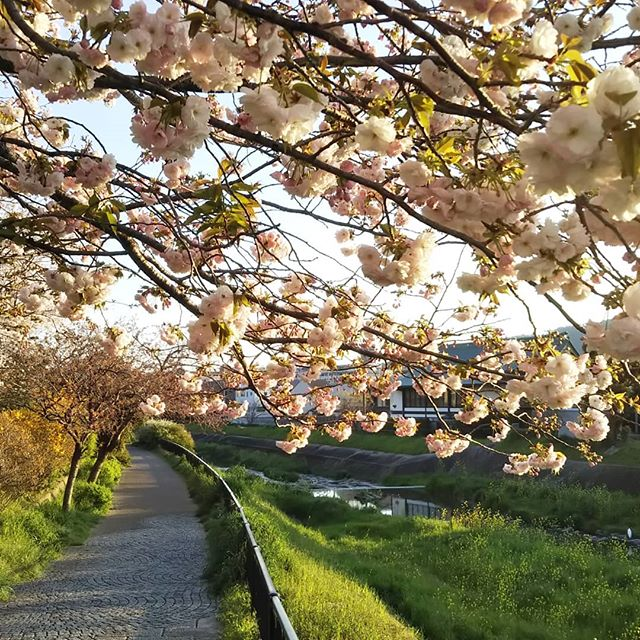river: (217, 443, 640, 625)
tree: (1, 1, 638, 477)
